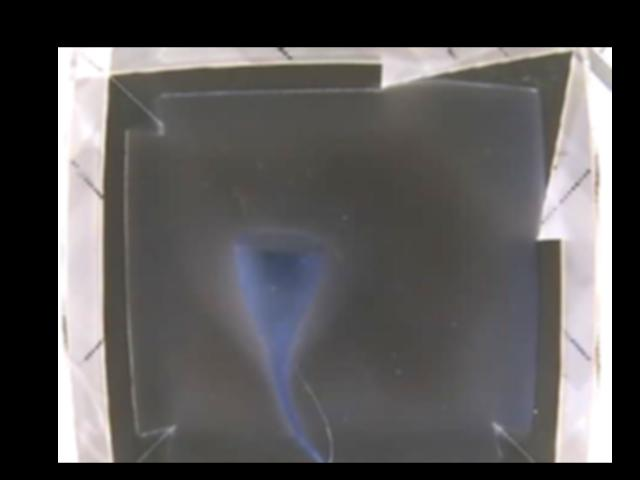Mooli: (234, 227, 332, 358)
